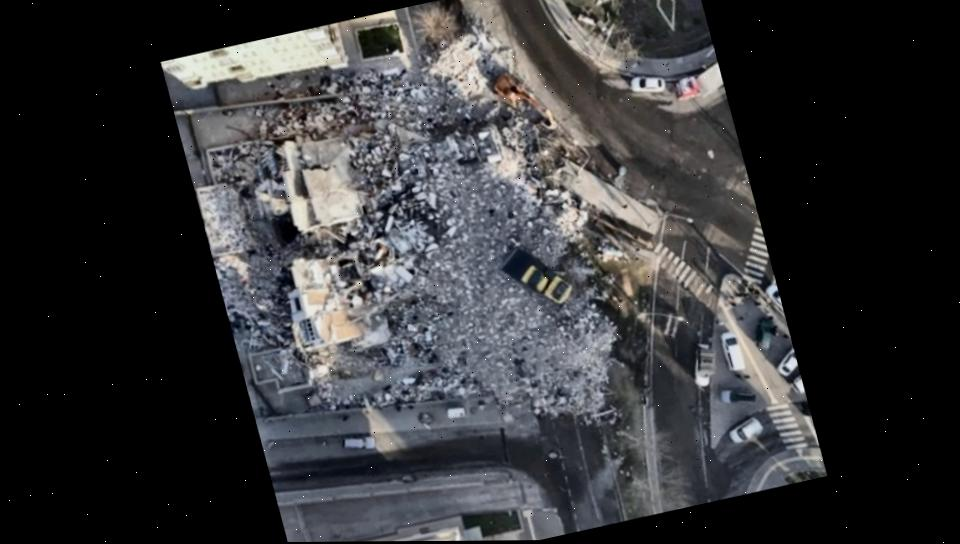kapali: (484, 143, 609, 477)
